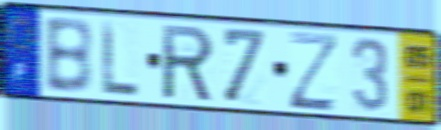3: (349, 34, 391, 116)
7: (221, 25, 270, 107)
B: (42, 15, 95, 97)
L: (99, 18, 141, 98)
R: (159, 22, 216, 105)
Z: (287, 29, 341, 114)
